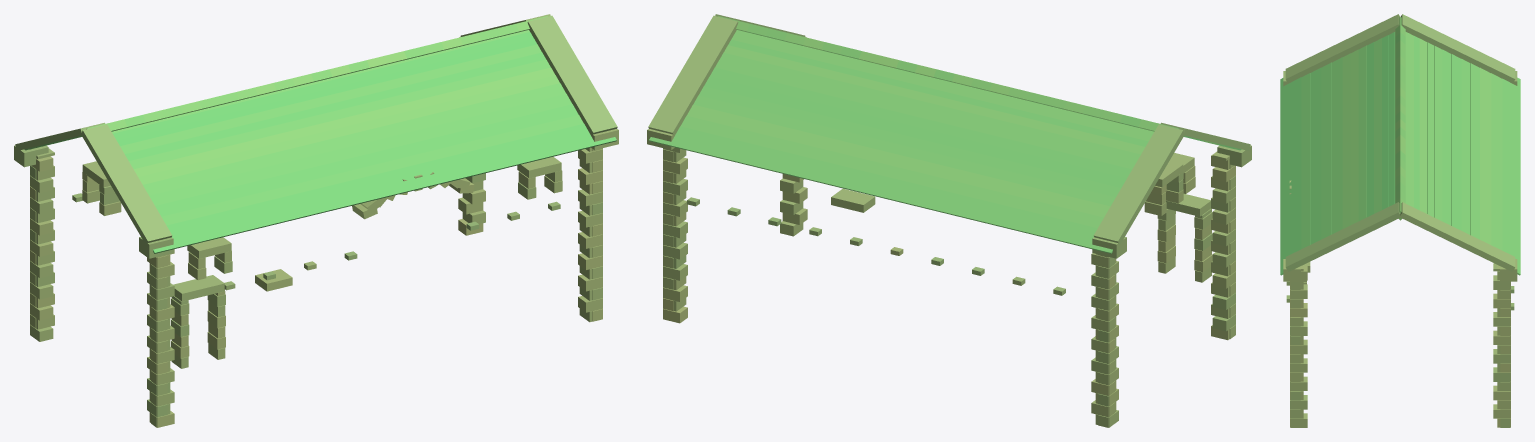
File: SM_Bld_005_Stone.glb
The picture shows the model from 3 angles, left to right: view 1: azimuth 30°, elevation 25°; view 2: azimuth 150°, elevation 25°; view 3: azimuth 270°, elevation 25°; orthographic projection. The views are drawn at different scales.
Parts seen in each view (by area): view 1: SM_Bld_005_Stone; view 2: SM_Bld_005_Stone; view 3: SM_Bld_005_Stone.
Part boxes in pixels (x1,y1,x2,y2): SM_Bld_005_Stone: [14, 14, 618, 427]; SM_Bld_005_Stone: [647, 14, 1251, 427]; SM_Bld_005_Stone: [1280, 14, 1520, 427].
Bounding box in the file's own units: 13.86 × 7.18 × 7.1.
